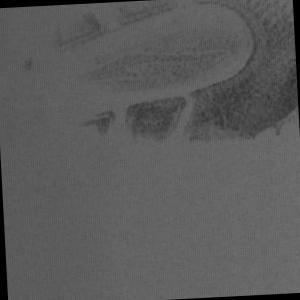Stain: (10, 1, 300, 167)
